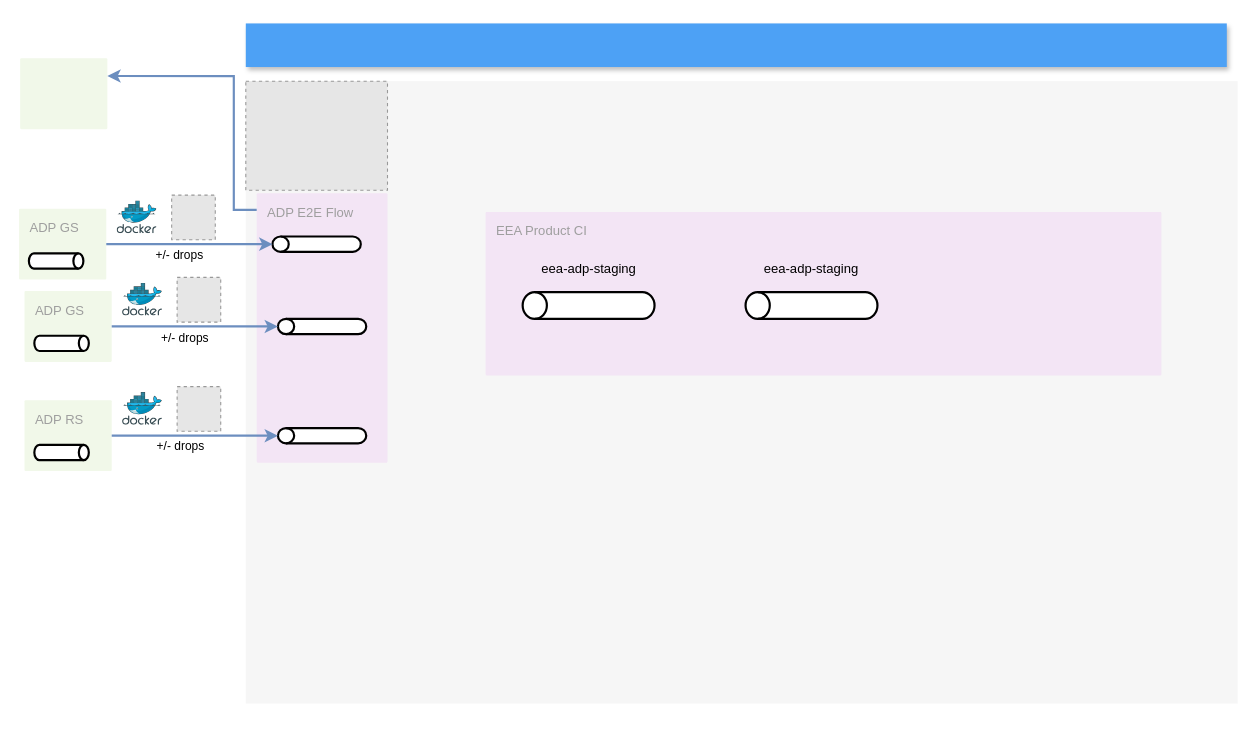
The diagram is 1256 pixels wide and 743 high, and some of its shapes have lost their labels. Grey dashed boxes stand in for pictures. Each missing label, with the centre of its shape:
"ADP CI/CD Dashboard" goes at point (63, 93).
"Architecture: Staging workflow > ADP staging" goes at point (737, 46).
